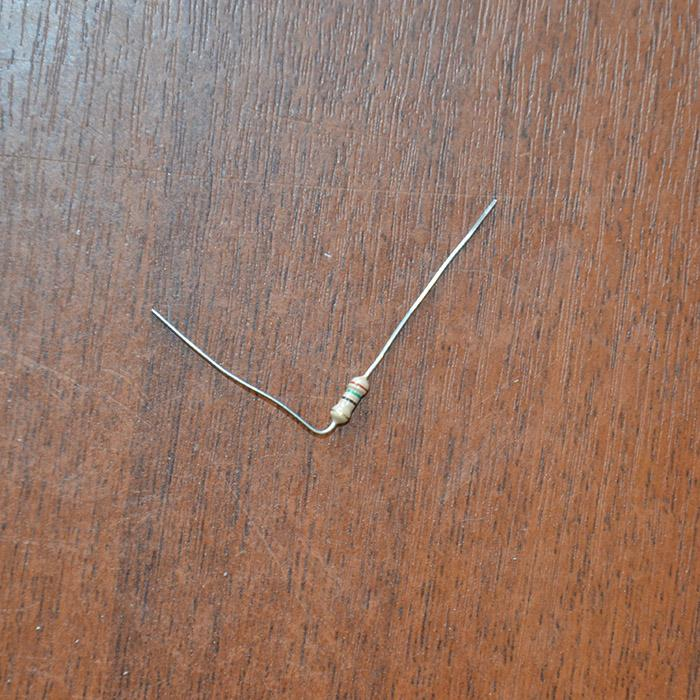resistor: (330, 374, 369, 424)
